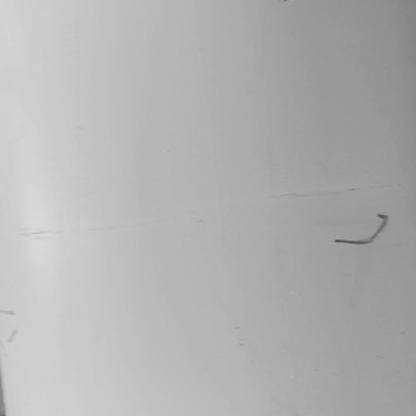fengxi: (334, 210, 391, 254)
